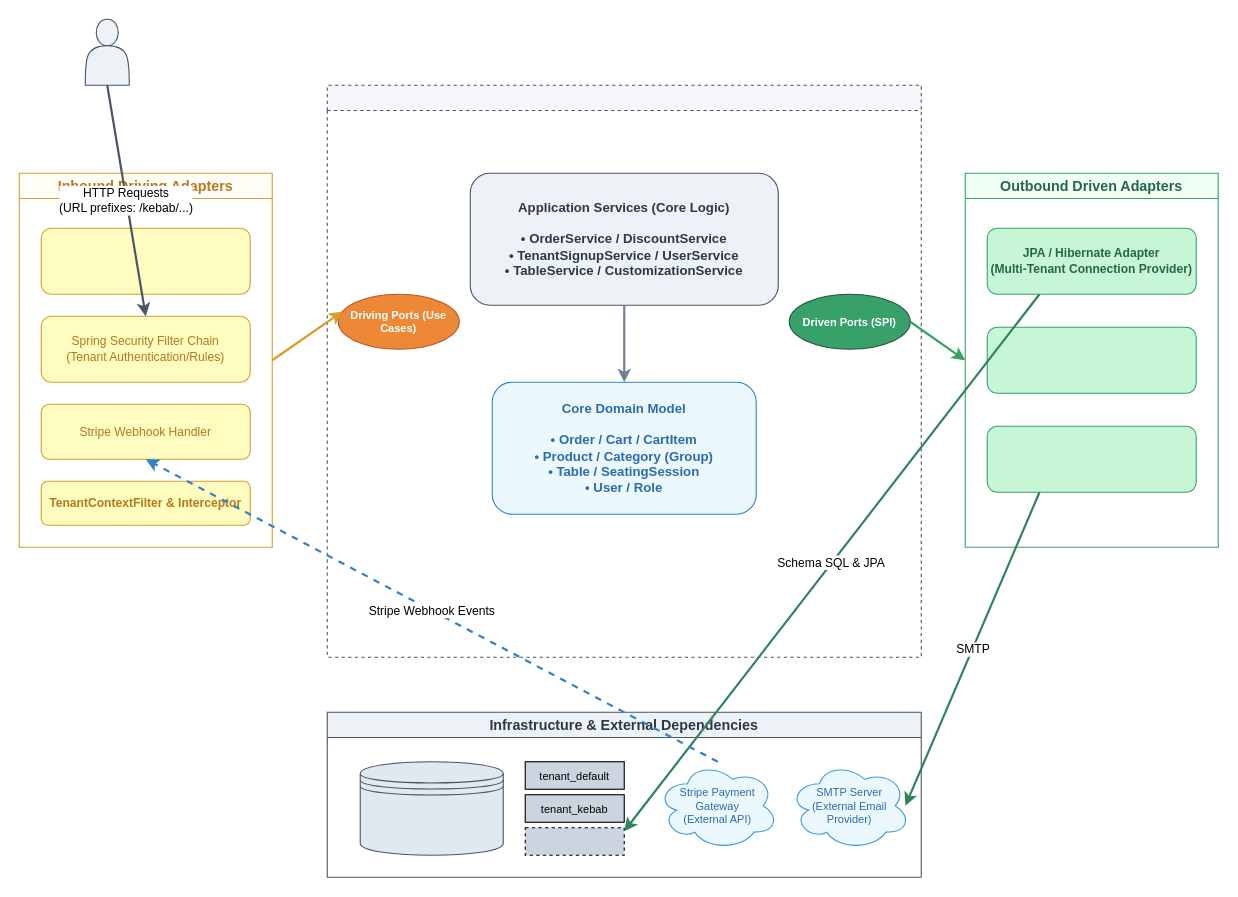
This 1238x897 diagram has some shape labels left out. The shapes that lost their labels are listed below. From the top down, each one's box as (x1, y1, x2, y2) in pixels, then its label:
(84, 18, 129, 85): Customer Browser / POS Tablet
(40, 227, 250, 294): Spring MVC Controllers (Storefront, Counter POS, BackOffice)
(326, 84, 921, 657): FastBite Core Application (Hexagonal Architecture)
(986, 326, 1196, 393): Disk File Storage Adapter (Local image uploads)
(986, 425, 1196, 492): SMTP Email Sender Adapter
(359, 761, 503, 855): H2 Relational Database File (./data/fast_bite.db)
(524, 827, 624, 855): tenant_{tenantId}
